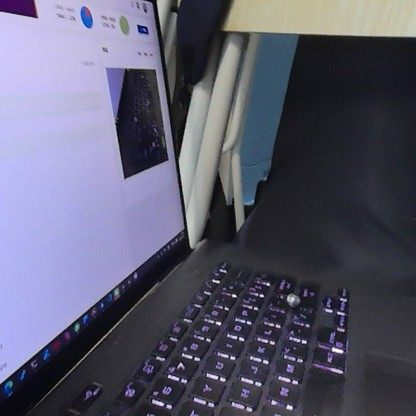ironball: (282, 289, 301, 309)
